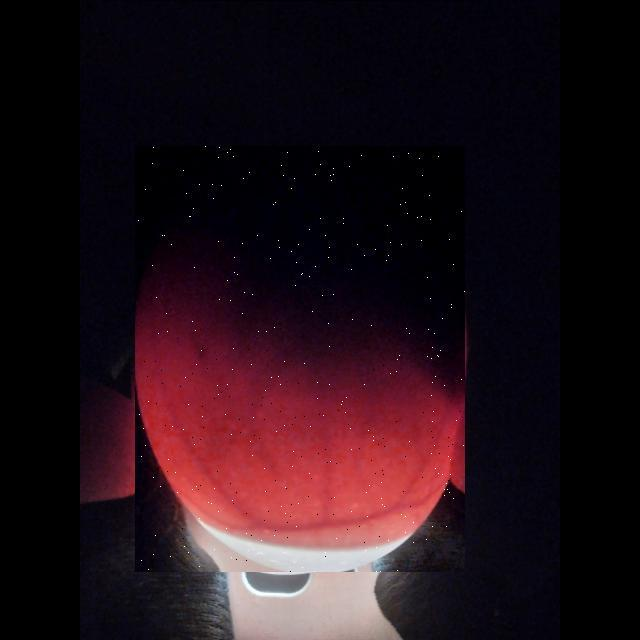Fertile: (135, 146, 465, 572)
